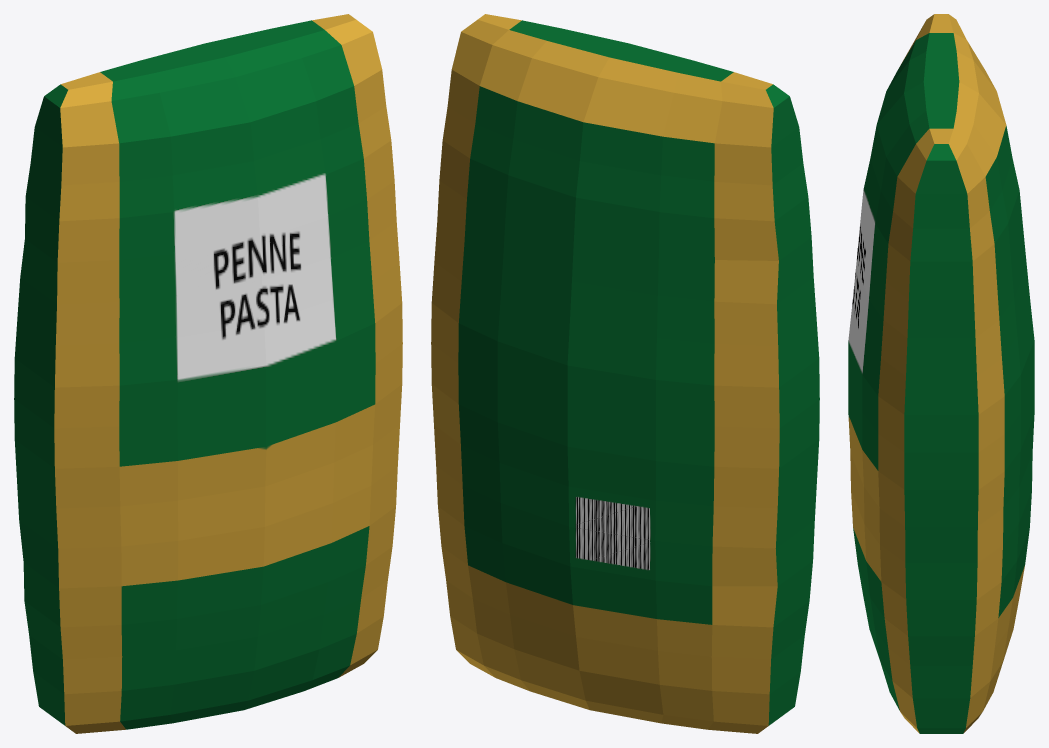
File: penne_pasta.glb
3 views of the same model, side by side, from view 1: azimuth 30°, elevation 25°; view 2: azimuth 150°, elevation 25°; view 3: azimuth 270°, elevation 25° (orthographic). The views are drawn at different scales.
Parts seen in each view (by area): view 1: Cube; view 2: Cube; view 3: Cube.
Part boxes in pixels (x1,y1,x2,y2): Cube: (14,14,402,733); Cube: (431,14,819,733); Cube: (848,14,1034,733).
Size of the model in its own units: 0.2 by 0.35 by 0.1.
Materials: 1 (1 with a texture image).
